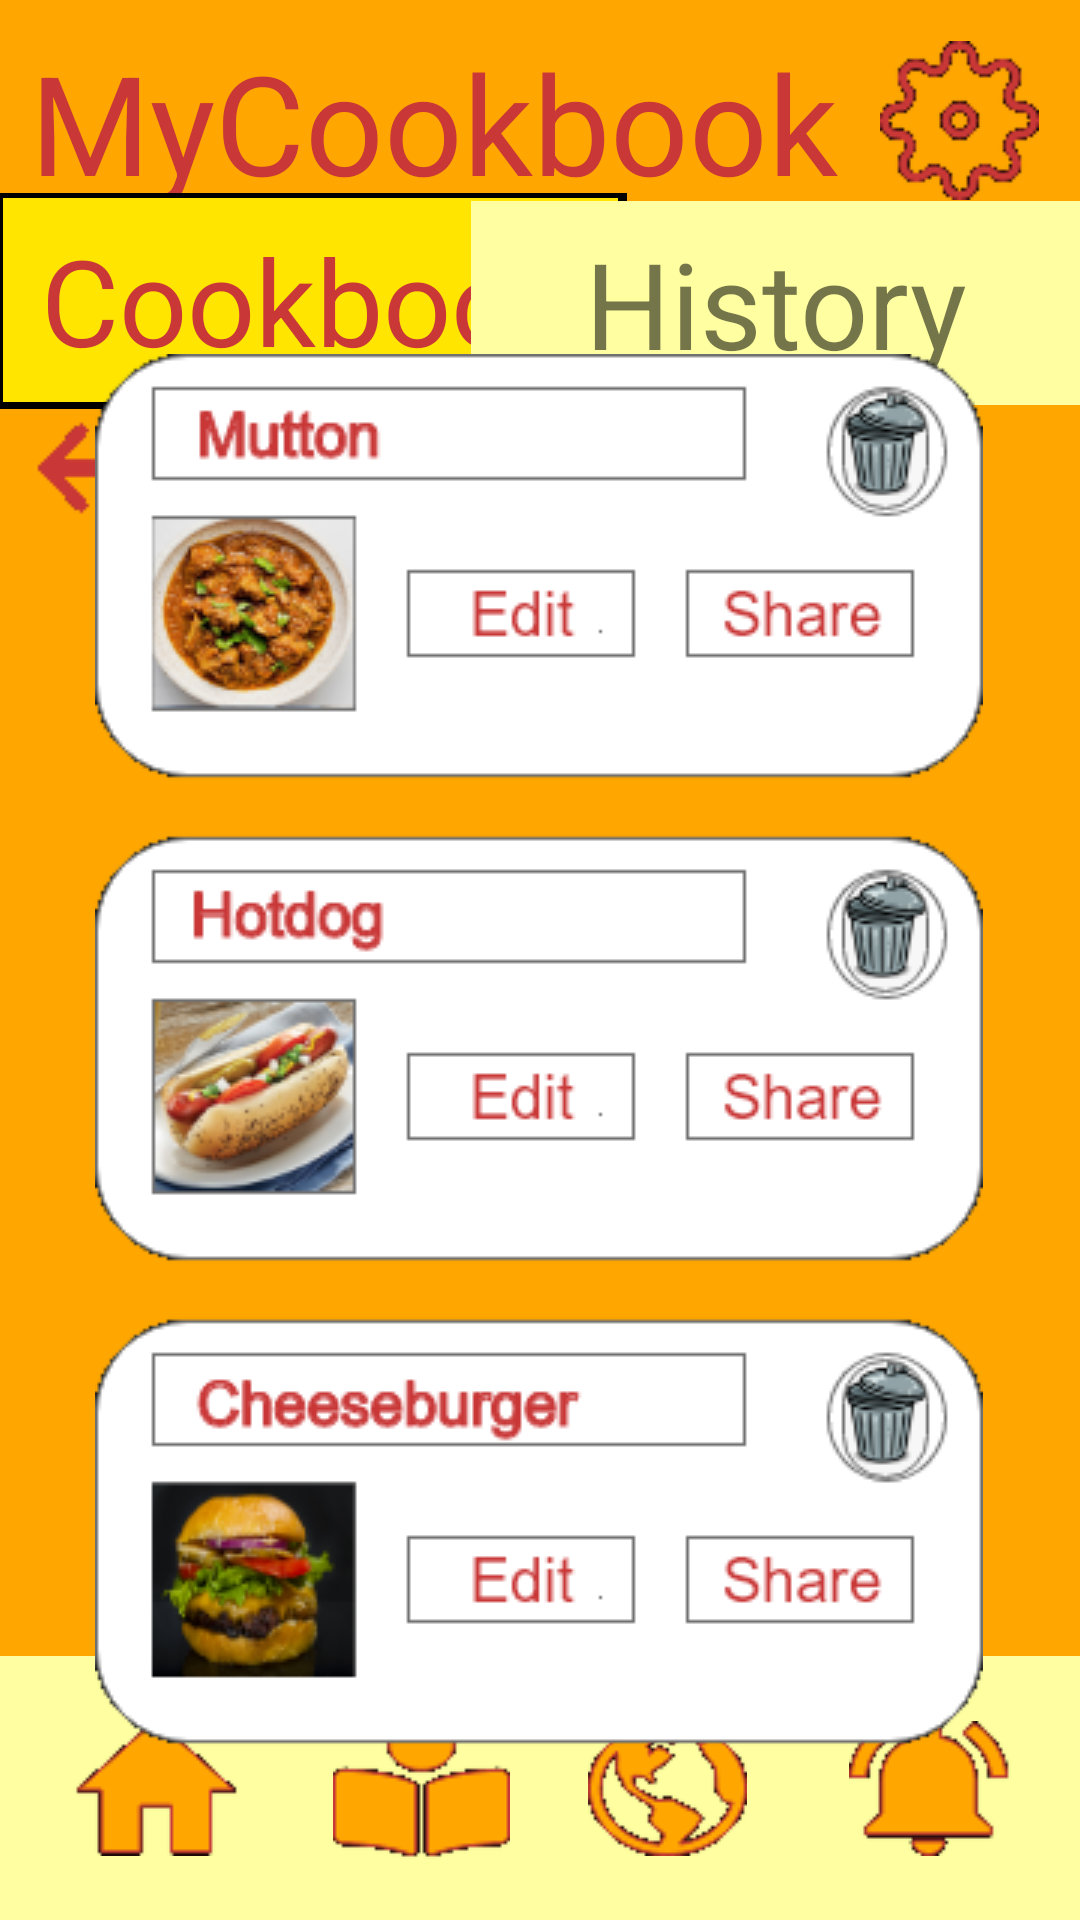

Icons on this 1080w x 1920h Android screen, each with the point to tap as (x=x, y=y):
leftarrow: (x=83, y=468)
settings: (x=959, y=120)
